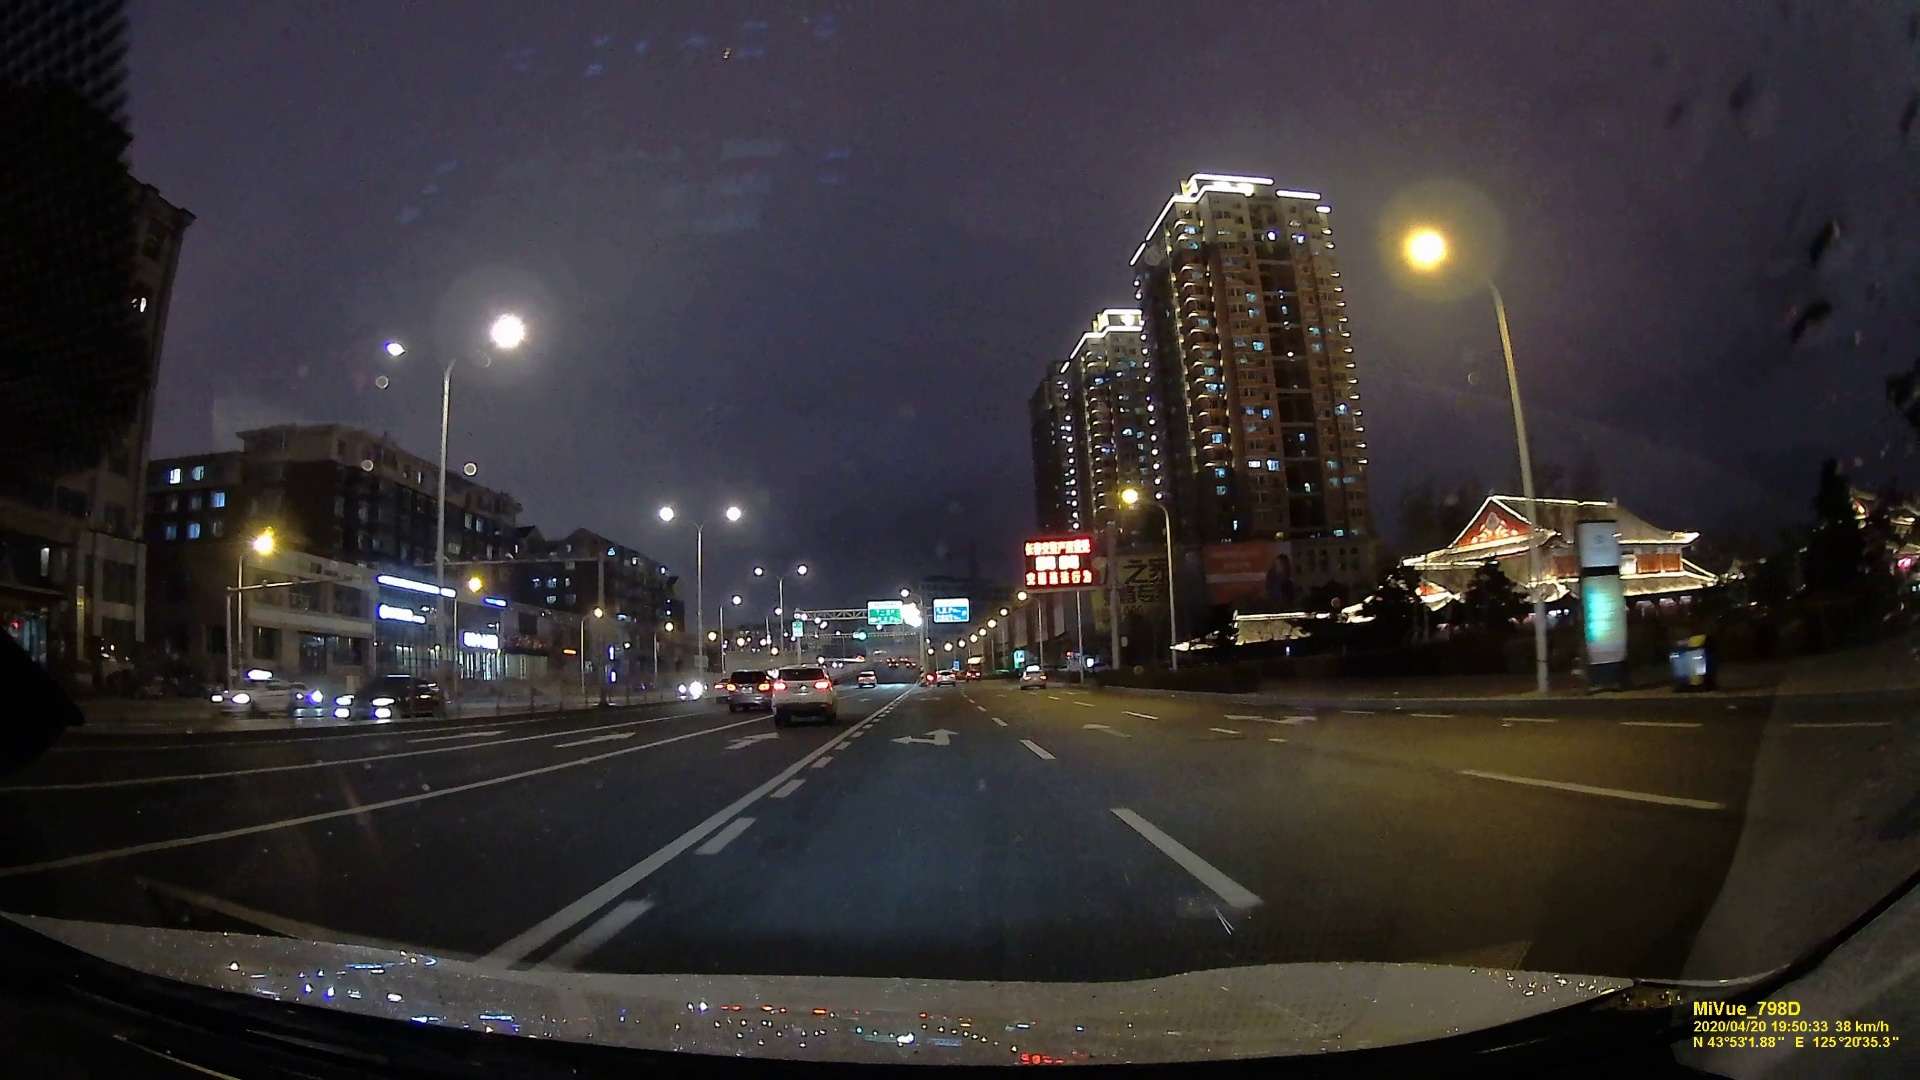traffic_sign: (866, 600, 899, 624), (934, 599, 969, 618)
vehicle: (342, 674, 440, 723), (770, 663, 837, 723), (212, 675, 301, 713), (723, 667, 770, 709), (1019, 667, 1048, 690), (935, 669, 956, 684)
